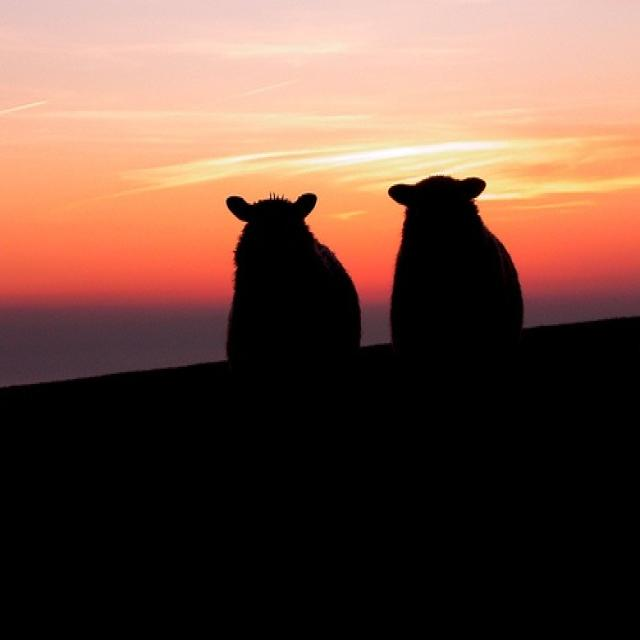sheep: (385, 173, 526, 344), (224, 192, 365, 356)
